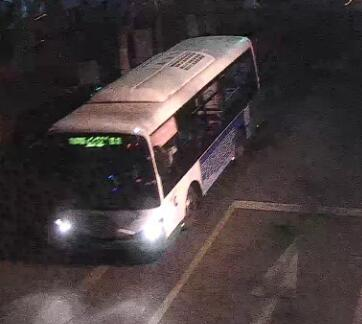bus: (40, 33, 264, 260)
